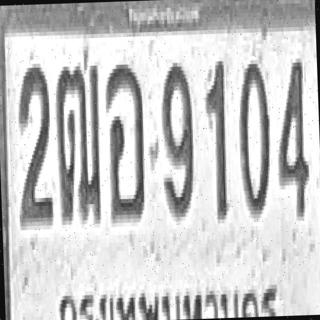A18: (54, 59, 103, 223)
A43: (104, 62, 146, 221)
N00: (236, 57, 271, 216)
N01: (203, 57, 229, 220)
N02: (15, 61, 53, 224)
N04: (275, 54, 310, 217)
N09: (160, 58, 196, 217)
